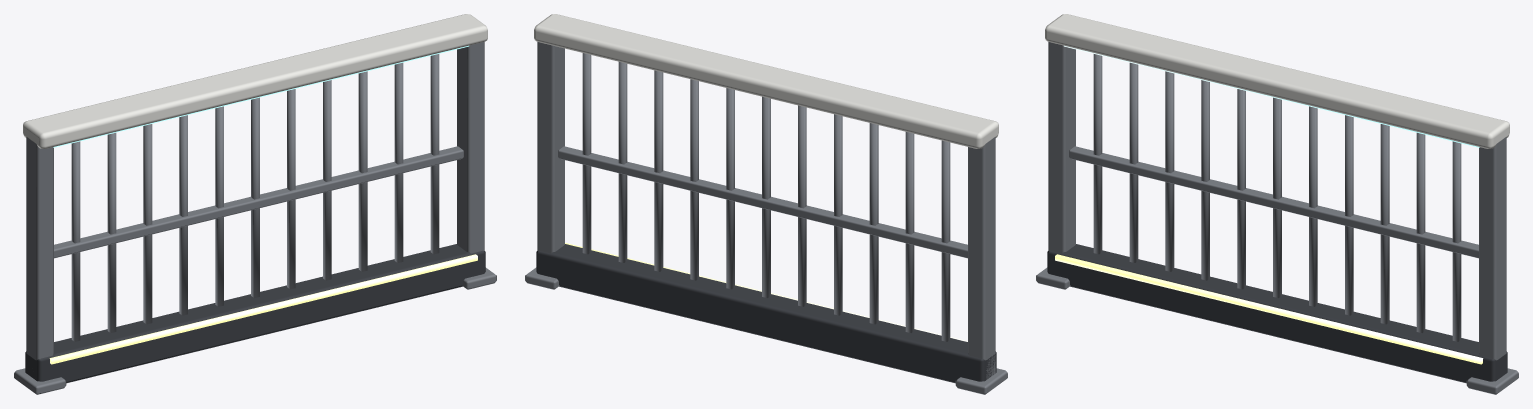
Rendered from kit_railing.glb.
3 renders of one model, left to right at view 1: azimuth 30°, elevation 25°; view 2: azimuth 150°, elevation 25°; view 3: azimuth 330°, elevation 25°, orthographic.
Visible parts, largest first — view 1: railing; view 2: railing; view 3: railing.
Boxes of the visible parts, x1=… form: railing: x1=14, y1=14, x2=496, y2=394; railing: x1=525, y1=14, x2=1007, y2=394; railing: x1=1036, y1=14, x2=1518, y2=394.
Bounding box in the file's own units: 2.06 × 1.1 × 0.18.
